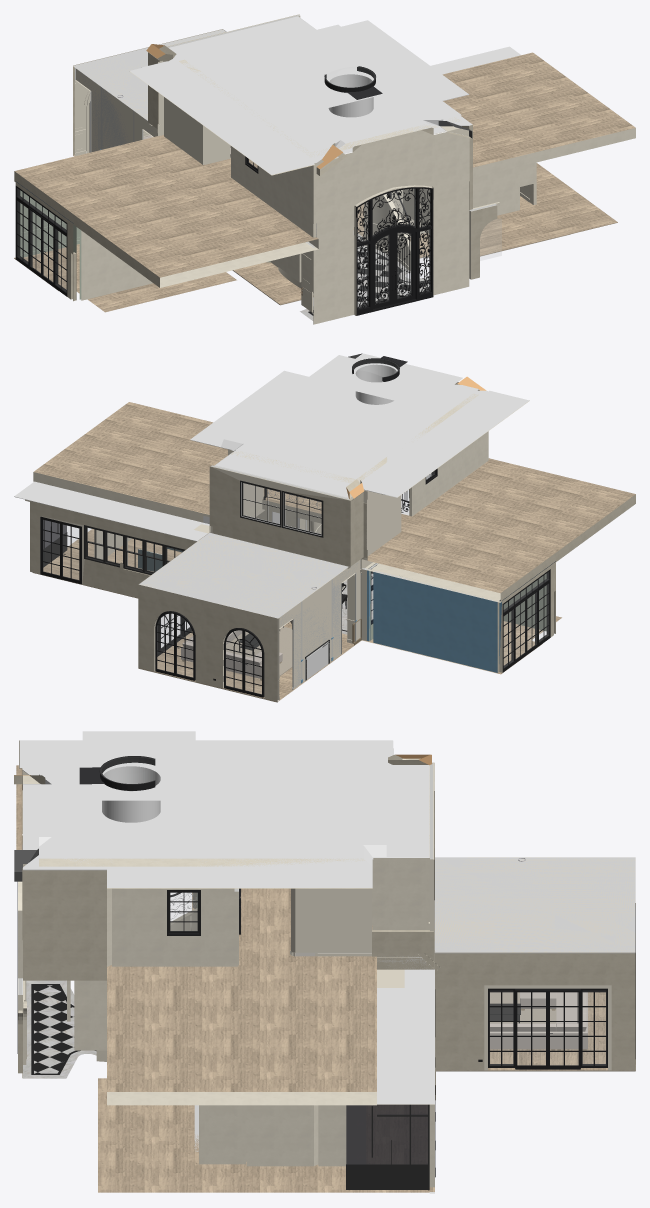
The model's file is family-room-6c78e2392fc5.glb.
3 renders of one model, top to bottom at view 1: azimuth 30°, elevation 25°; view 2: azimuth 150°, elevation 25°; view 3: azimuth 270°, elevation 25°, orthographic. The views are drawn at different scales.
Parts seen in each view (by area): view 1: family-room-look-2575515a05775d9e, family-room-look-e8793759323e04f0, family-room-look-9d91b47435c6fb33, family-room-look-34525a54e63b733b, family-room-look-3b0077416469e01b, family-room-look-d5a4a1b5d3594c04, family-room-look-5f56640b372ec5ce, family-room-look-746250f96522f643, family-room-4a969f5cc1ae3dfe, family-room-look-d999b7e09afcf2f4, family-room-look-bce662e26d5a5947, family-room-9d80b152e3f2ea10 (+31 smaller); view 2: family-room-look-2575515a05775d9e, family-room-look-e8793759323e04f0, family-room-look-9d91b47435c6fb33, family-room-4a969f5cc1ae3dfe, family-room-look-b19b106fc304963c, family-room-look-245f595ae2832e16, family-room-969b861f9850351e, family-room-look-bfb9fa537cd11d1d, family-room-9d80b152e3f2ea10, family-room-look-9a0e9ee9b2a451d7, family-room-look-5f56640b372ec5ce, family-room-50d54560d247b537 (+27 smaller); view 3: family-room-look-2575515a05775d9e, family-room-look-e8793759323e04f0, family-room-4a969f5cc1ae3dfe, family-room-look-9d91b47435c6fb33, family-room-look-3b0077416469e01b, family-room-e706aa16b4547c37, family-room-50d54560d247b537, family-room-look-62353aa10fc57f23, family-room-look-c51ecd664a3b22a3, family-room-look-9a0e9ee9b2a451d7, family-room-look-5f56640b372ec5ce, family-room-look-69af8f587252f9fa (+28 smaller).
Boxes of the visible parts, bbox=[...] form: family-room-look-2575515a05775d9e: bbox=[14, 52, 635, 287]; family-room-look-e8793759323e04f0: bbox=[179, 23, 461, 156]; family-room-look-9d91b47435c6fb33: bbox=[129, 16, 472, 175]; family-room-look-34525a54e63b733b: bbox=[313, 126, 469, 243]; family-room-look-3b0077416469e01b: bbox=[14, 163, 617, 304]; family-room-look-d5a4a1b5d3594c04: bbox=[313, 207, 469, 324]; family-room-look-5f56640b372ec5ce: bbox=[252, 58, 402, 115]; family-room-look-746250f96522f643: bbox=[231, 146, 316, 237]; family-room-4a969f5cc1ae3dfe: bbox=[73, 29, 225, 120]; family-room-look-d999b7e09afcf2f4: bbox=[79, 229, 152, 300]; family-room-look-bce662e26d5a5947: bbox=[355, 187, 433, 315]; family-room-9d80b152e3f2ea10: bbox=[76, 69, 157, 151]; family-room-look-2575515a05775d9e: bbox=[33, 402, 635, 602]; family-room-look-e8793759323e04f0: bbox=[221, 355, 478, 483]; family-room-look-9d91b47435c6fb33: bbox=[190, 370, 529, 498]; family-room-4a969f5cc1ae3dfe: bbox=[138, 532, 348, 618]; family-room-look-b19b106fc304963c: bbox=[373, 570, 499, 672]; family-room-look-245f595ae2832e16: bbox=[209, 465, 350, 566]; family-room-969b861f9850351e: bbox=[138, 585, 279, 701]; family-room-look-bfb9fa537cd11d1d: bbox=[30, 501, 196, 597]; family-room-9d80b152e3f2ea10: bbox=[279, 559, 360, 688]; family-room-look-9a0e9ee9b2a451d7: bbox=[14, 481, 209, 541]; family-room-look-5f56640b372ec5ce: bbox=[323, 353, 462, 407]; family-room-50d54560d247b537: bbox=[138, 532, 344, 618]; family-room-look-2575515a05775d9e: bbox=[16, 765, 376, 1105]; family-room-look-e8793759323e04f0: bbox=[39, 762, 386, 866]; family-room-4a969f5cc1ae3dfe: bbox=[434, 857, 635, 953]; family-room-look-9d91b47435c6fb33: bbox=[19, 740, 429, 888]; family-room-look-3b0077416469e01b: bbox=[98, 925, 434, 1192]; family-room-e706aa16b4547c37: bbox=[435, 953, 630, 1070]; family-room-50d54560d247b537: bbox=[434, 857, 635, 953]; family-room-look-62353aa10fc57f23: bbox=[23, 870, 111, 980]; family-room-look-c51ecd664a3b22a3: bbox=[112, 888, 238, 966]; family-room-look-9a0e9ee9b2a451d7: bbox=[377, 969, 434, 1104]; family-room-look-5f56640b372ec5ce: bbox=[82, 731, 195, 800]; family-room-look-69af8f587252f9fa: bbox=[291, 888, 371, 952].
Size of the model in its own units: 21.02 by 7.94 by 16.88.
63 materials, 12 textured.
